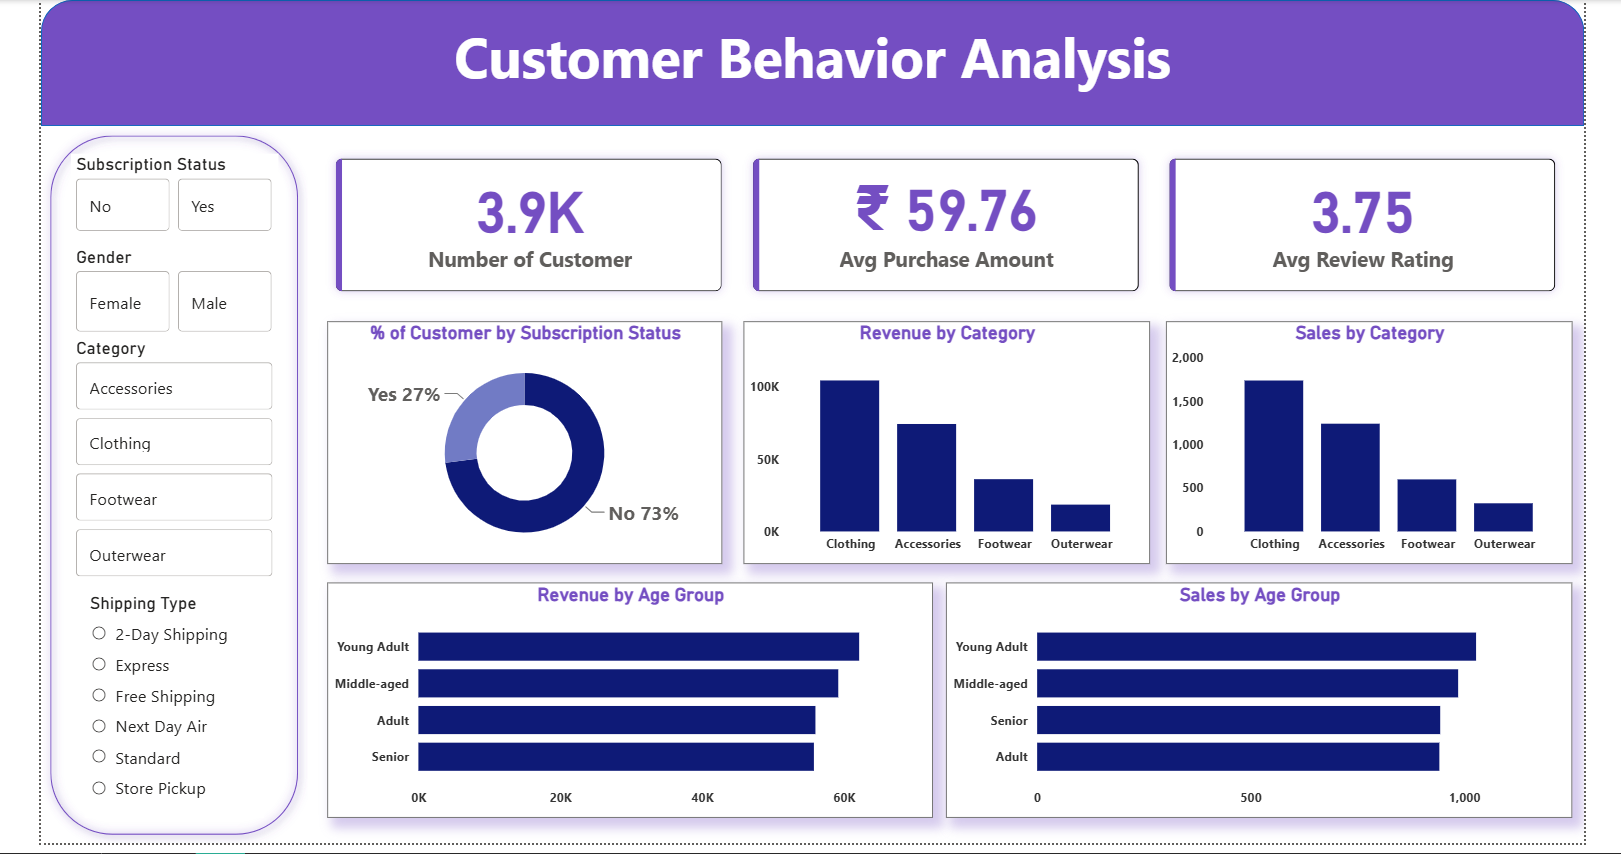

This screenshot's page, from the dashboard's own definition file:
{"tool":"powerbi","page":{"name":"Page 1","canvas":[1500,820],"ordinal":0},"visuals":[{"type":"cardVisual","fields":{"Data":["customer_behavior customer.Number of Customer","customer_behavior customer.Avg Purchase Amount","customer_behavior customer.Avg Review Rating"]},"box":[258.9,126.7,1241.4,185.3],"z":0},{"type":"shape","box":[0,0,1500.3,122.6],"z":1000},{"type":"textbox","box":[0,13.6,1500.3,109],"z":2000},{"type":"donutChart","title":"% of Customer by Subscription Status","fields":{"Category":["customer_behavior customer.subscription_status"],"Y":["Count(customer_behavior customer.customer_id)"]},"box":[278,312,384.3,235.7],"z":3000},{"type":"clusteredColumnChart","title":"Revenue by Category","fields":{"Y":["Sum(customer_behavior customer.purchase_amount)"],"Category":["customer_behavior customer.category"]},"box":[682.7,312,395.2,235.7],"z":4000},{"type":"clusteredColumnChart","title":"Sales by Category","fields":{"Category":["customer_behavior customer.category"],"Y":["CountNonNull(customer_behavior customer.customer_id)"]},"box":[1094.2,312,395.2,235.7],"z":5000},{"type":"shape","box":[0,122.6,258.9,697.7],"z":6000},{"type":"advancedSlicerVisual","fields":{"Values":["customer_behavior customer.subscription_status"]},"box":[28.6,149.9,201.7,80.4],"z":7000},{"type":"advancedSlicerVisual","fields":{"Values":["customer_behavior customer.gender"]},"box":[28.6,239.8,201.7,88.6],"z":7001},{"type":"advancedSlicerVisual","fields":{"Values":["customer_behavior customer.category"]},"box":[28.6,328.4,201.7,238.5],"z":7002},{"type":"listSlicer","fields":{"Values":["customer_behavior customer.shipping_type"]},"box":[42.2,576.4,174.4,219.4],"z":7003},{"type":"clusteredBarChart","title":"Revenue by Age Group","fields":{"Y":["Sum(customer_behavior customer.purchase_amount)"],"Category":["customer_behavior customer.age_group"]},"box":[278,566.9,588.7,228.9],"z":7004},{"type":"clusteredBarChart","title":"Sales by Age Group","fields":{"Category":["customer_behavior customer.age_group"],"Y":["CountNonNull(customer_behavior customer.customer_id)"]},"box":[880.3,566.9,609.1,228.9],"z":7005}]}

Visuals, with their boxes on the page's 1500x820 design canvas (x1, y1, x2, y2). These are canvas units, not pixel positions in the 1621x854 screenshot, which may show the page scaled, cropped or inside an application window:
cardVisual - customer_behavior customer.Number of Customer x customer_behavior customer.Avg Purchase Amount: (259,127,1500,312)
shape: (0,0,1500,123)
textbox: (0,14,1500,123)
"% of Customer by Subscription Status" donutChart: (278,312,662,548)
"Revenue by Category" clusteredColumnChart: (683,312,1078,548)
"Sales by Category" clusteredColumnChart: (1094,312,1489,548)
shape: (0,123,259,820)
advancedSlicerVisual - customer_behavior customer.subscription_status: (29,150,230,230)
advancedSlicerVisual - customer_behavior customer.gender: (29,240,230,328)
advancedSlicerVisual - customer_behavior customer.category: (29,328,230,567)
listSlicer - customer_behavior customer.shipping_type: (42,576,217,796)
"Revenue by Age Group" clusteredBarChart: (278,567,867,796)
"Sales by Age Group" clusteredBarChart: (880,567,1489,796)
